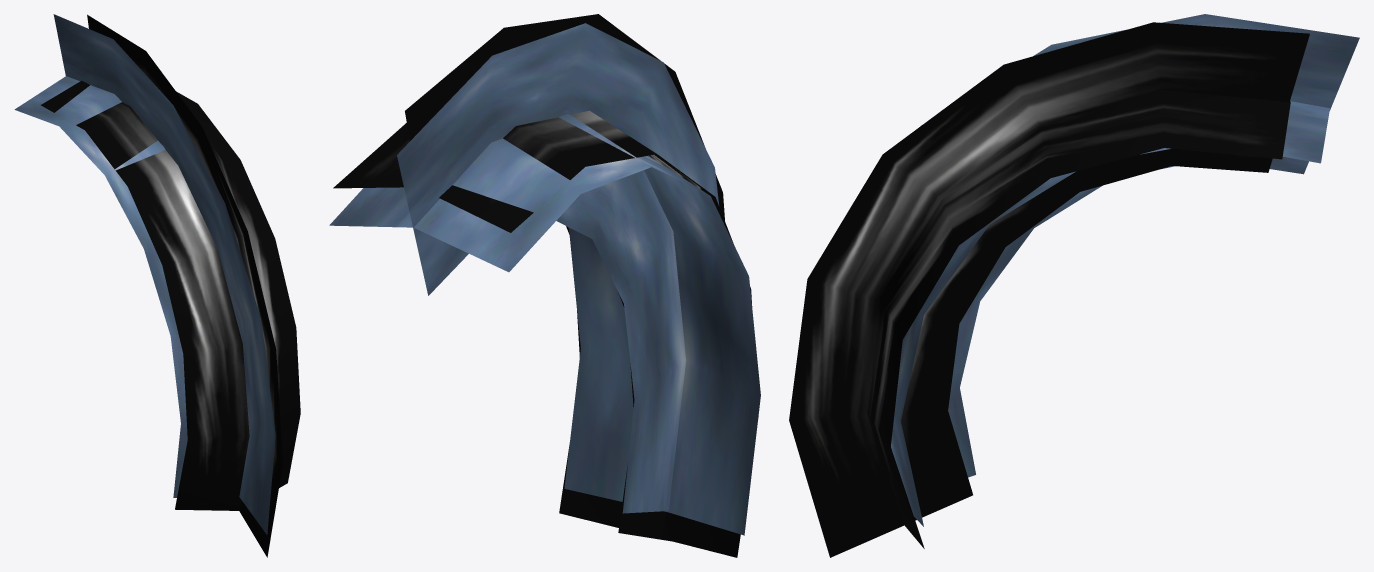
Rendered from Effect_2205tattack #073711.fbx.
3 views of the same model, side by side, from view 1: azimuth 30°, elevation 25°; view 2: azimuth 150°, elevation 25°; view 3: azimuth 270°, elevation 25° (orthographic). The views are drawn at different scales.
Parts seen in each view (by area): view 1: Effect_2205tattack01, Effect_2205tattack02; view 2: Effect_2205tattack02, Effect_2205tattack01; view 3: Effect_2205tattack01, Effect_2205tattack02.
Boxes of the visible parts, left/top/right/bottom form: Effect_2205tattack01: left=41, top=14, right=300, bottom=557; Effect_2205tattack02: left=14, top=14, right=275, bottom=534; Effect_2205tattack02: left=329, top=23, right=760, bottom=535; Effect_2205tattack01: left=333, top=14, right=752, bottom=557; Effect_2205tattack01: left=789, top=22, right=1309, bottom=557; Effect_2205tattack02: left=891, top=14, right=1359, bottom=526.
Bounding box in the file's own units: 1.05 × 3.35 × 3.22.
Materials: 2 (2 with a texture image).
